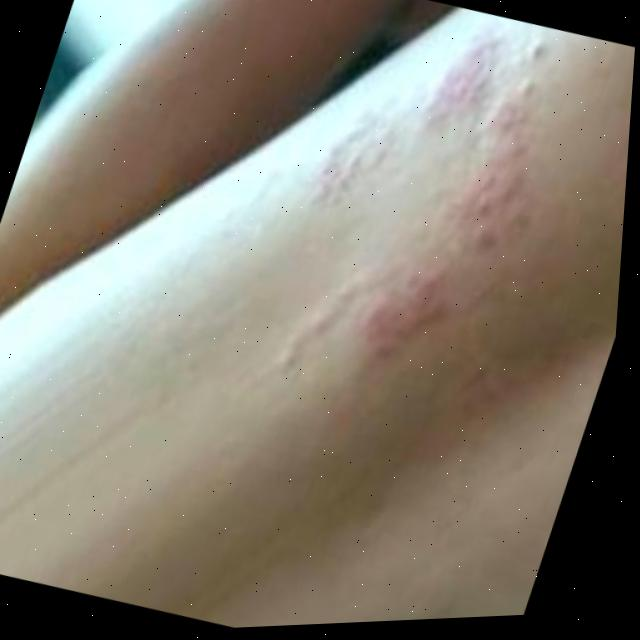Shingles: (250, 0, 580, 420)
